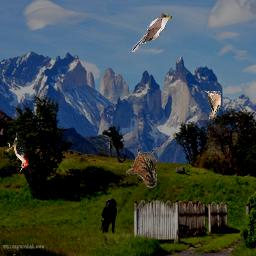Cuckoo: (132, 13, 172, 52), (205, 91, 221, 120)
Sparrow: (126, 148, 157, 188)
Woodpecker: (5, 132, 28, 172)
